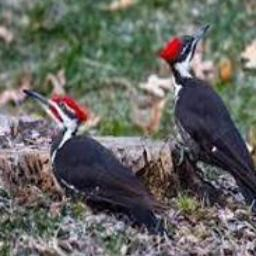Woodpecker: (24, 88, 172, 221), (158, 25, 256, 217)
